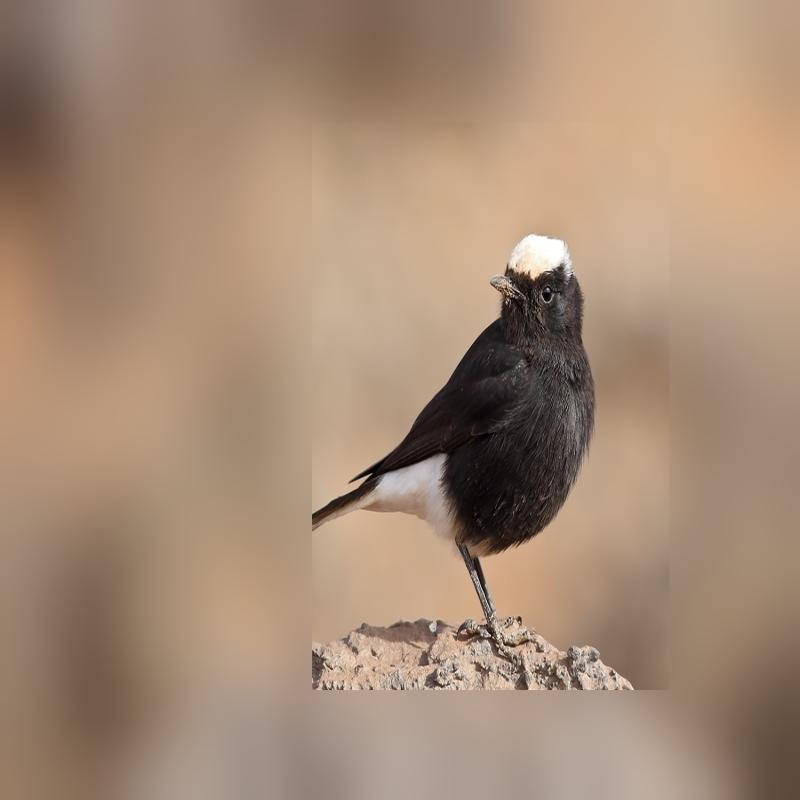white-crowned wheatear: (317, 218, 614, 643)
